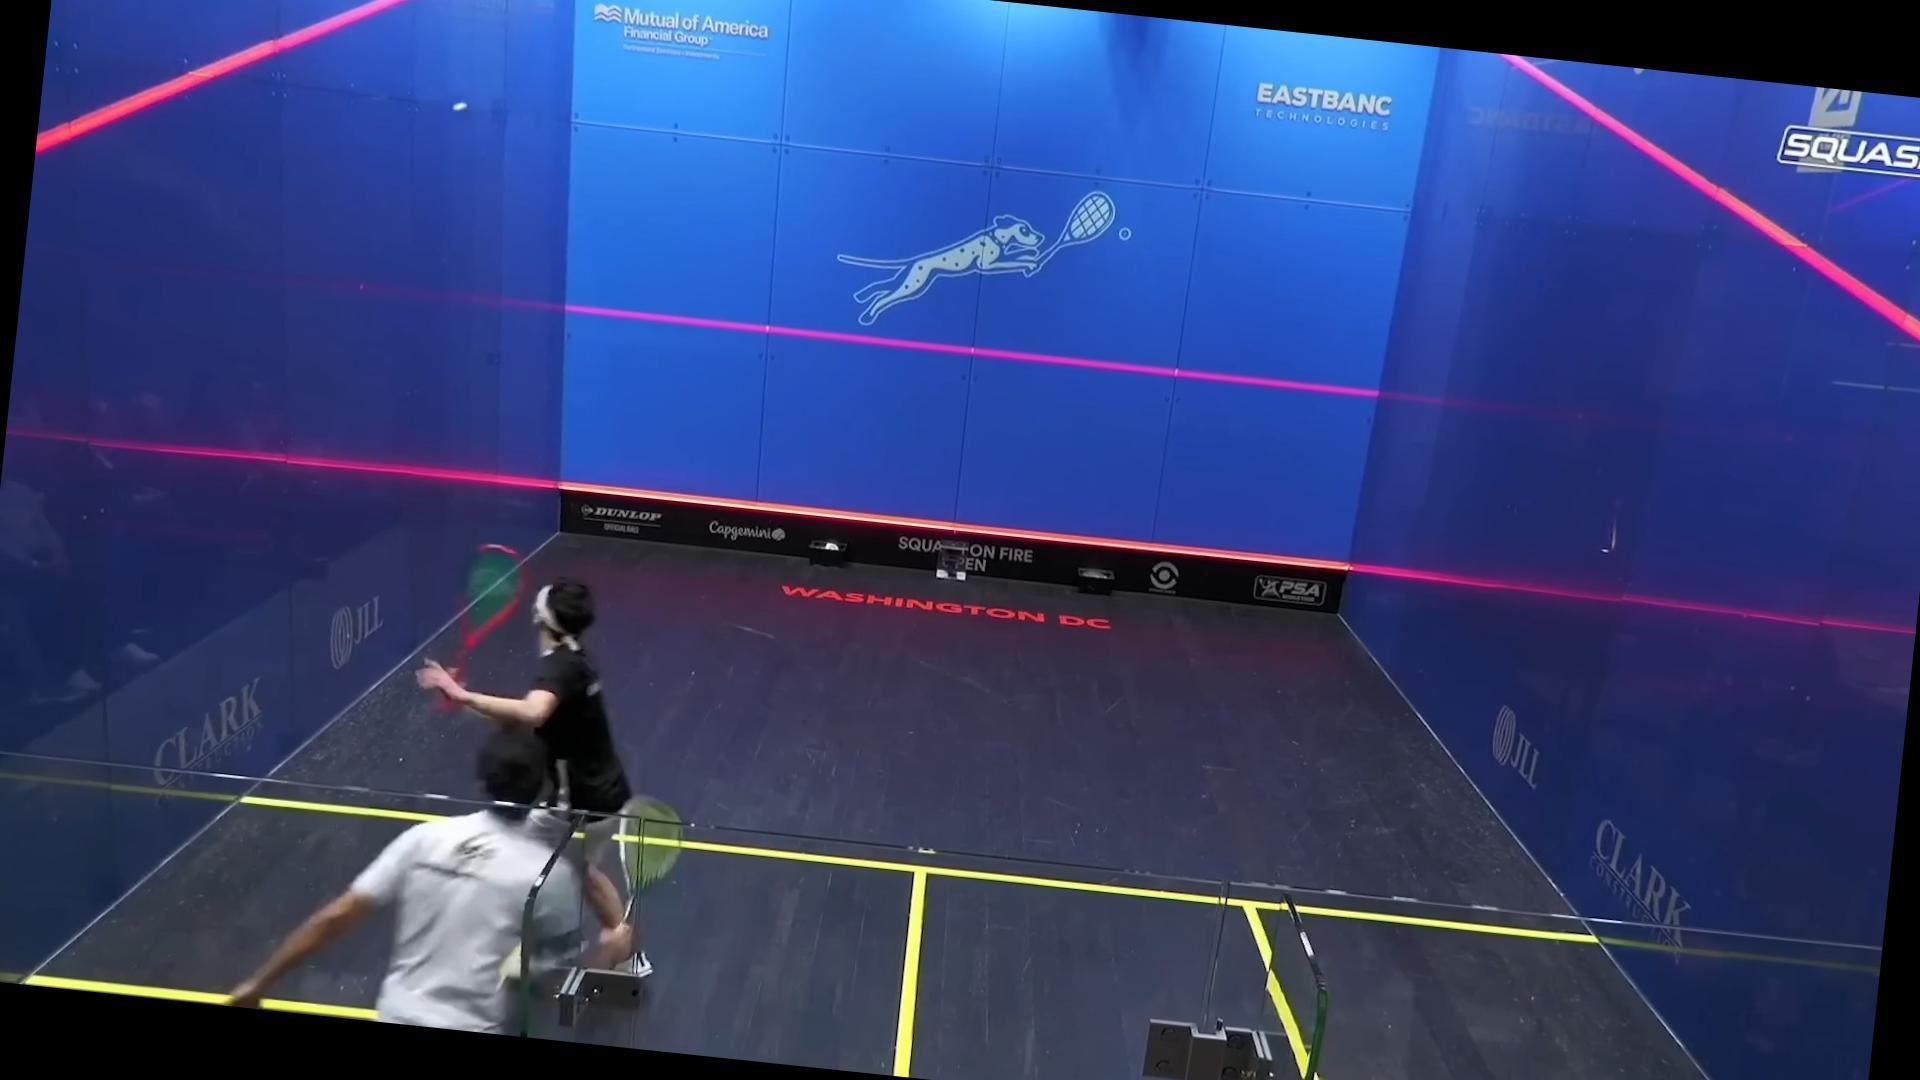Squash-Ball: (439, 88, 479, 129)
